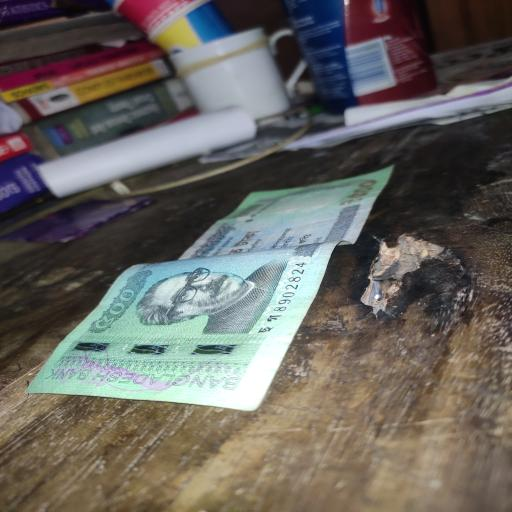500taka: (22, 168, 391, 412)
